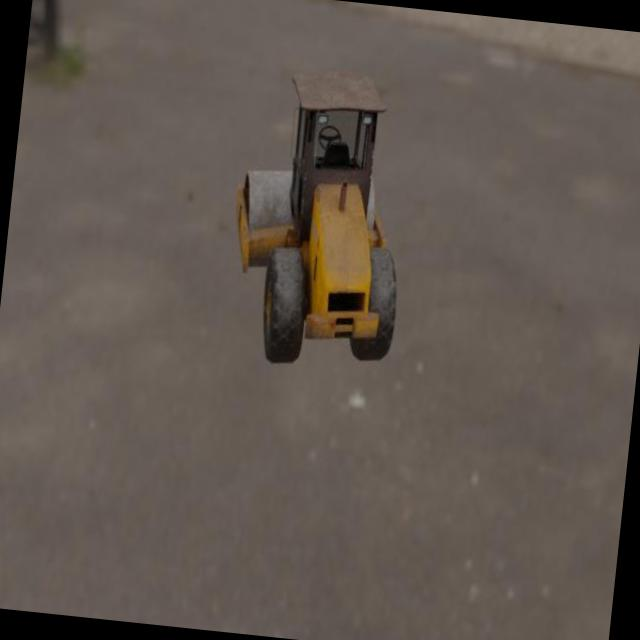Roller: (219, 60, 420, 376)
